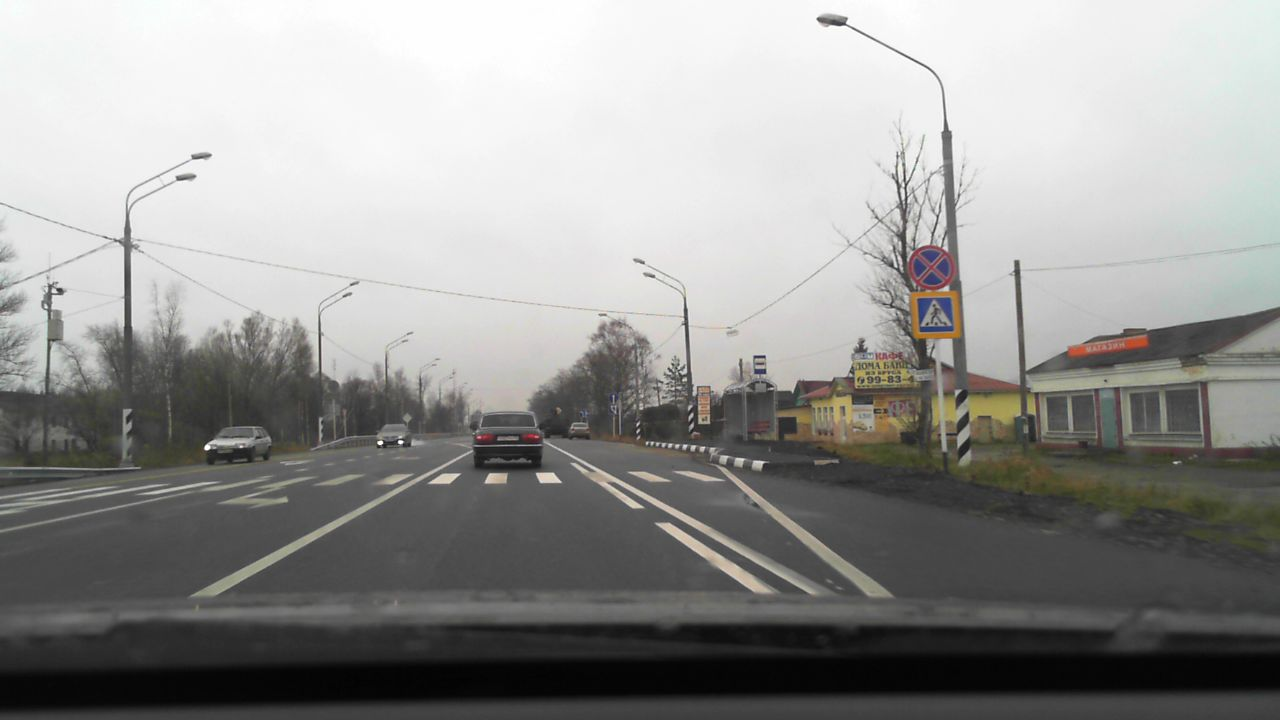No Parking: (907, 245, 956, 290)
